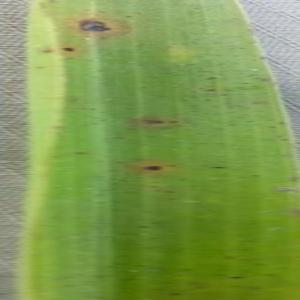Brown_Spot: (75, 14, 112, 38), (134, 112, 167, 132), (136, 159, 166, 176), (271, 184, 300, 195), (284, 203, 300, 220), (227, 271, 249, 282), (49, 121, 71, 132), (59, 43, 79, 55), (218, 251, 238, 263), (155, 187, 179, 197), (39, 45, 57, 58), (187, 282, 210, 292), (119, 275, 140, 285), (106, 133, 127, 143), (92, 272, 114, 281), (208, 162, 227, 172), (65, 93, 82, 104), (132, 222, 152, 231), (235, 79, 252, 88), (166, 290, 185, 298), (253, 259, 268, 269), (250, 98, 268, 106), (72, 149, 89, 157), (262, 271, 279, 279), (165, 118, 180, 127), (203, 74, 218, 83), (256, 53, 269, 63), (284, 174, 300, 182), (176, 175, 190, 184), (266, 123, 279, 132), (89, 121, 102, 130), (136, 83, 149, 92), (179, 266, 194, 273), (34, 64, 49, 71), (249, 171, 262, 179), (259, 77, 272, 85), (163, 162, 177, 169), (88, 73, 100, 81), (227, 122, 240, 129), (204, 87, 216, 94), (277, 137, 289, 144), (203, 97, 213, 105), (277, 119, 288, 126), (180, 98, 192, 104), (124, 13, 134, 20), (87, 106, 97, 113), (223, 87, 234, 93), (244, 119, 257, 124), (198, 85, 206, 92), (239, 46, 246, 51)
